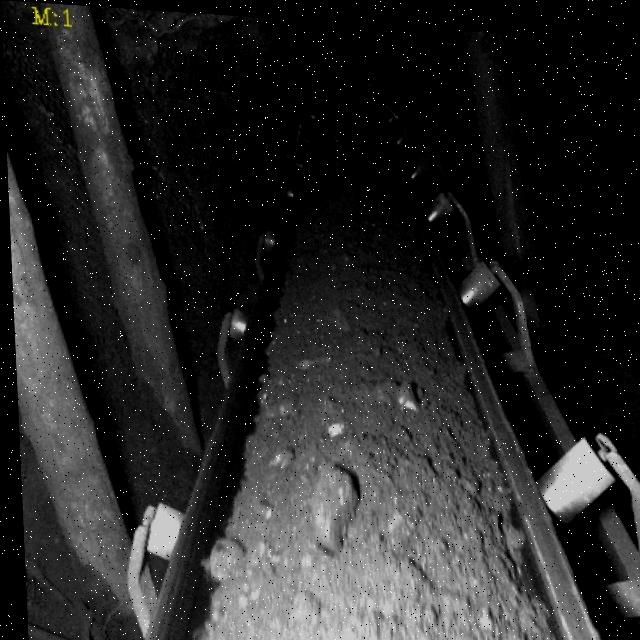large_sized_coal: (295, 461, 359, 549)
